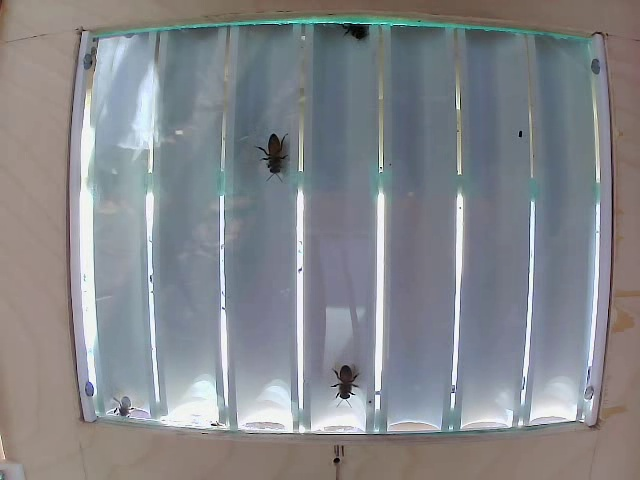bee: (323, 361, 360, 400), (259, 137, 286, 186)
